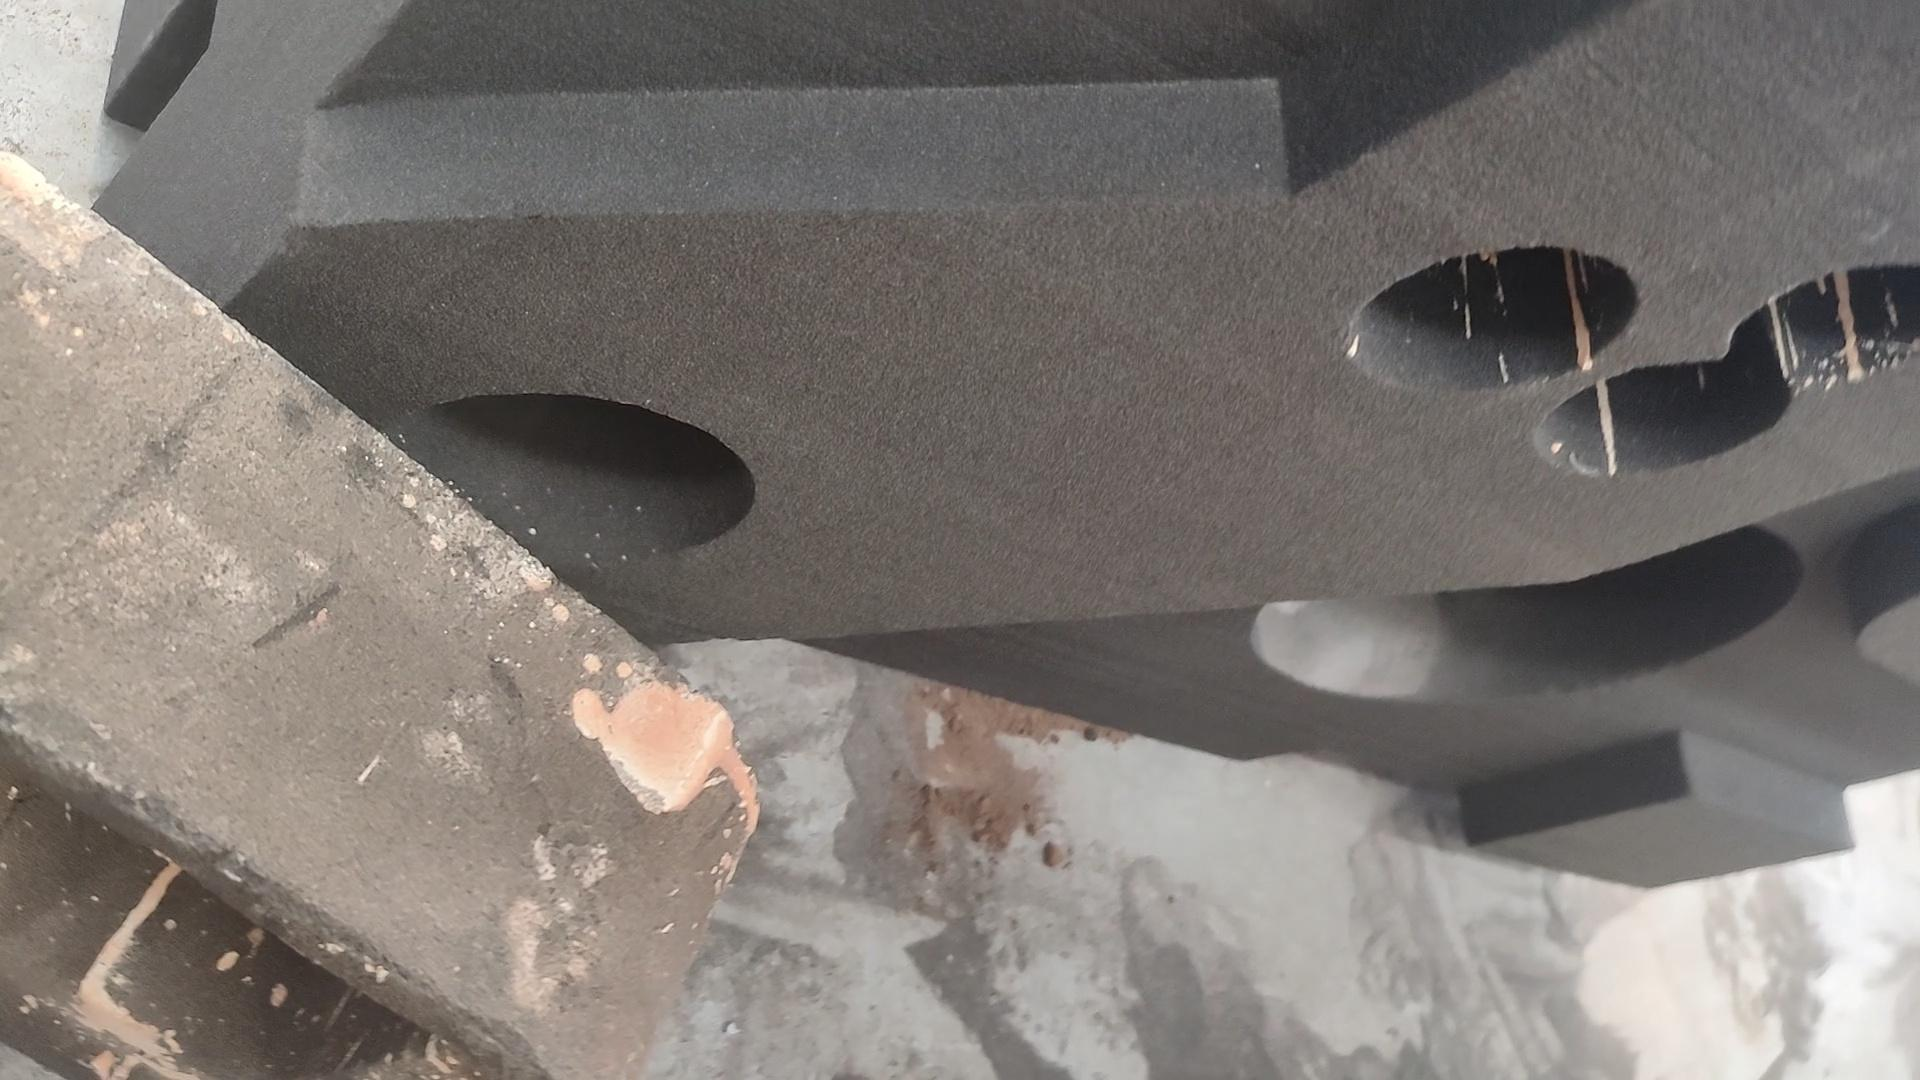pouring hole: (377, 393, 756, 562)
